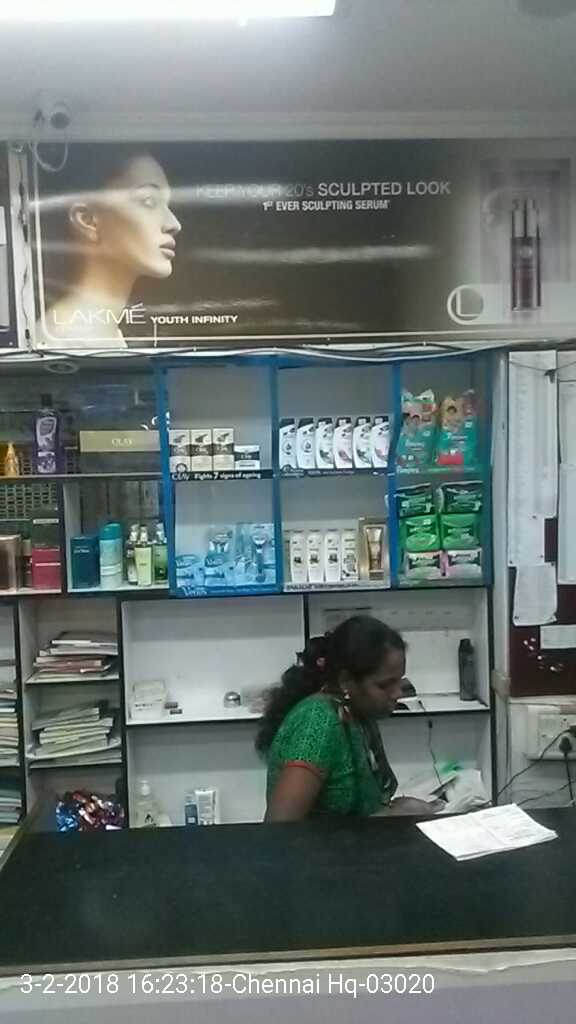venus: (238, 523, 274, 586), (205, 554, 238, 587), (173, 554, 205, 586), (205, 528, 235, 549)
